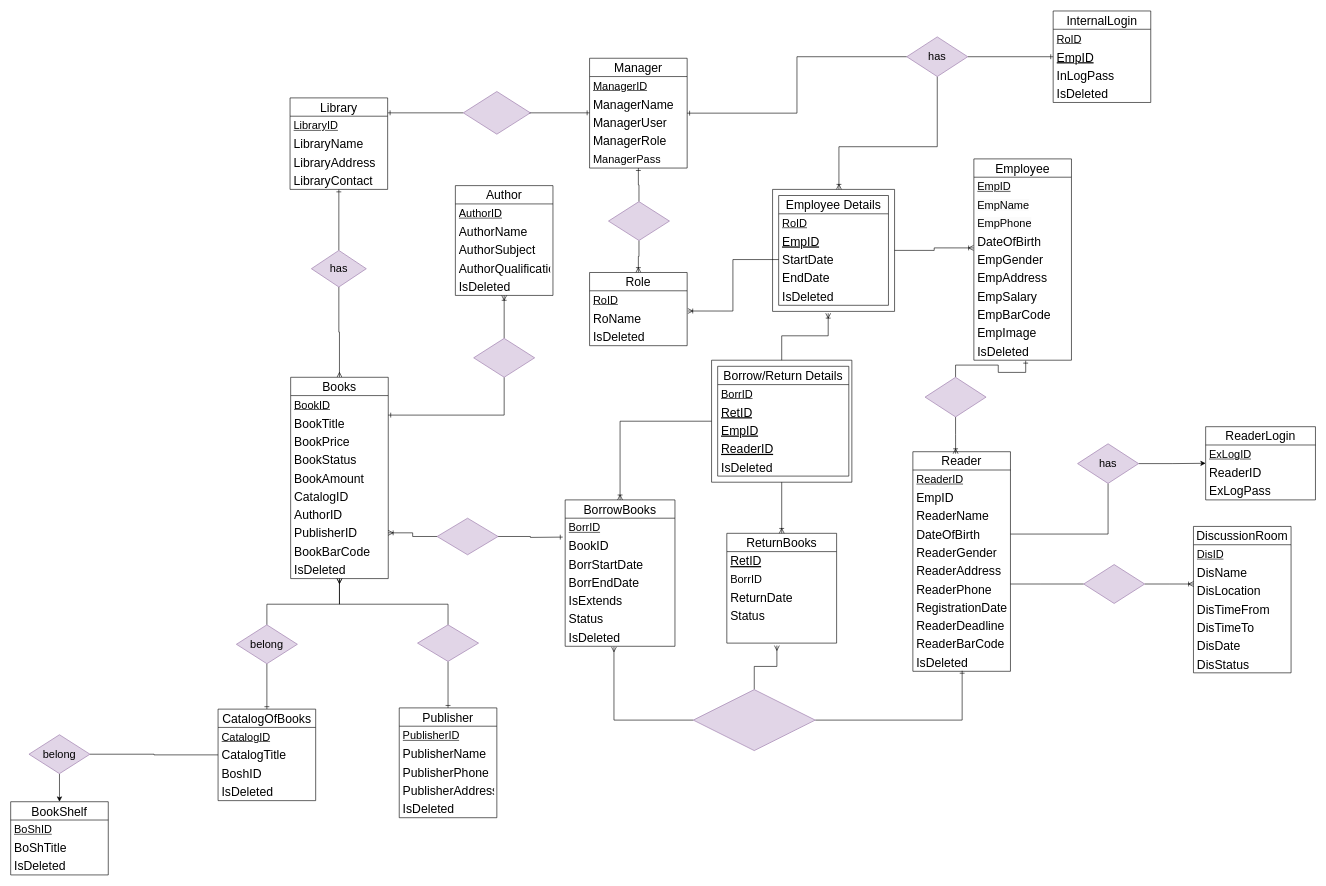
This 1326x886 diagram has some shape labels left out. The centre of each missing label's shape, as x and y in pixels:
"borrowed/returned" belongs at pixel 754 720.
"create" belongs at pixel 955 397.
"into" belongs at pixel 467 536.
"is" belongs at pixel 638 221.
"manage" belongs at pixel 496 112.
"publish" belongs at pixel 448 642.
"register" belongs at pixel 1114 583.
"written by" belongs at pixel 504 357.
